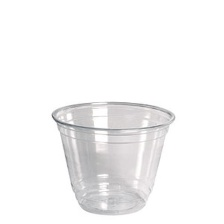glass: (47, 96, 184, 219)
